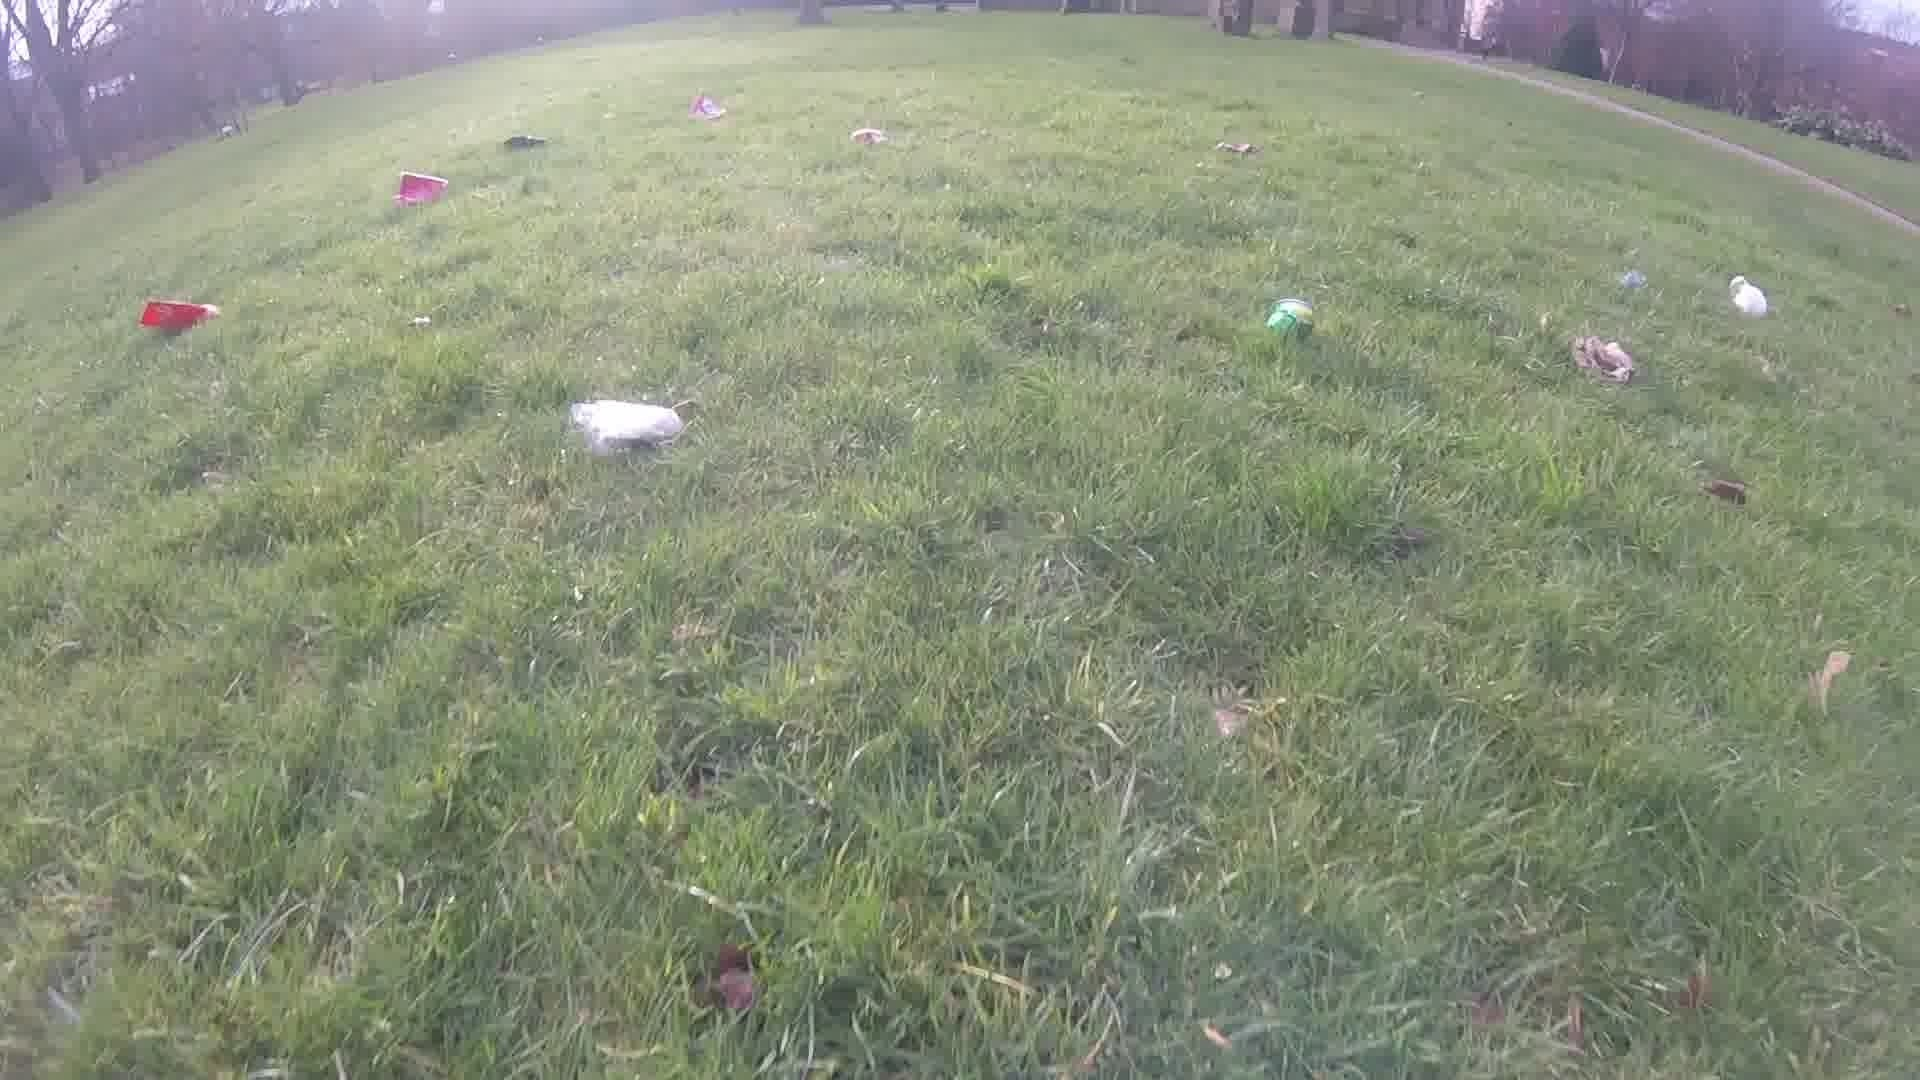litter: (562, 396, 686, 450), (1567, 331, 1634, 386), (136, 295, 218, 328), (392, 167, 448, 208), (1266, 298, 1317, 342), (1724, 277, 1768, 318), (684, 94, 725, 121), (1211, 138, 1254, 158), (1618, 268, 1648, 293), (849, 125, 884, 146), (498, 135, 546, 146)
